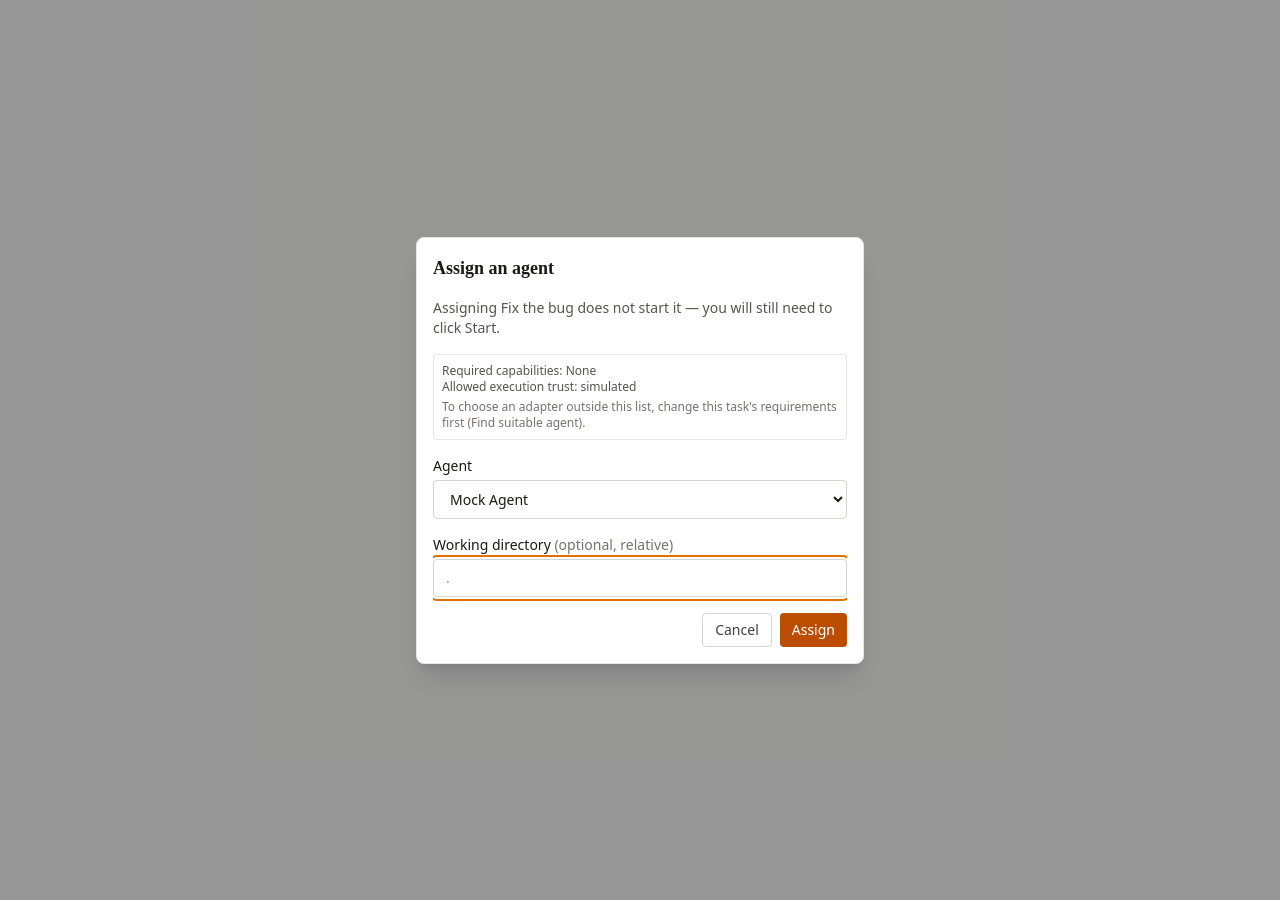
Test: AssignDialog › Requirement-aware assignment (Phase 11.1) › on a server-side ADAPTER_REQUIREMENTS_MISMATCH, keeps the dialog open, shows the safe error, and never moves the task
Click the button "Assign" at coordinates (813, 630), box x1=780 y1=612 x2=847 y2=646
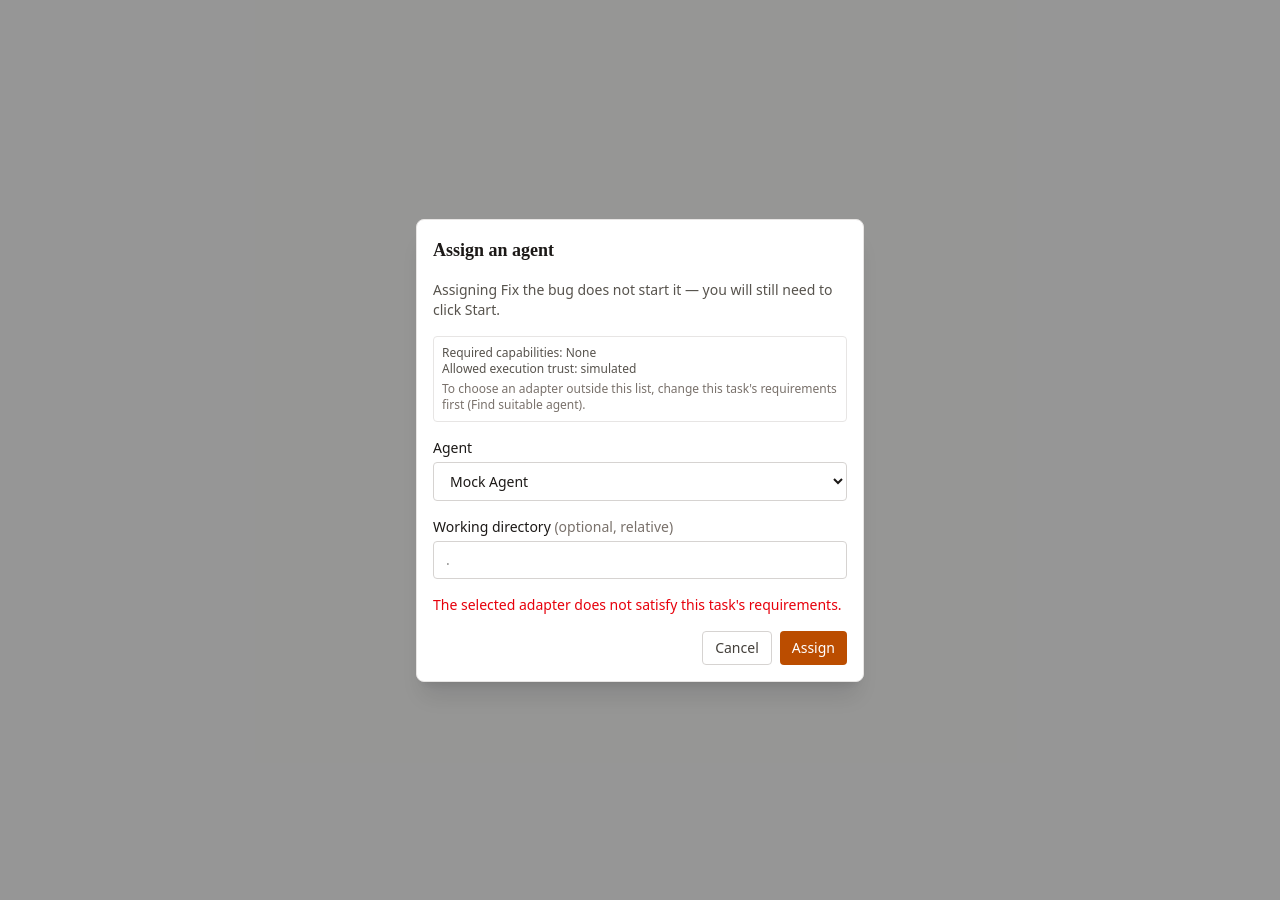
Expected: the dialog is shown, x1=416 y1=218 x2=864 y2=682
Result: the text "The selected adapter does not satisfy this task's requirements." is shown at x1=433 y1=594 x2=847 y2=614
